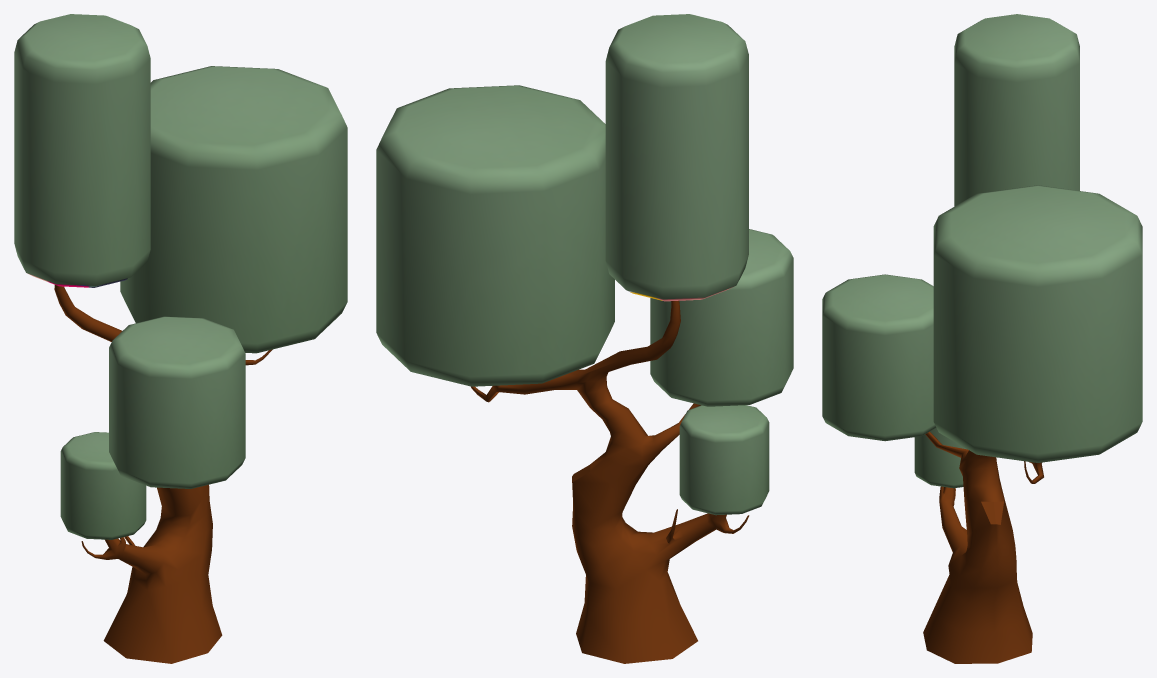
File: SM_Tree_16.fbx
The picture shows the model from 3 angles, left to right: view 1: azimuth 30°, elevation 25°; view 2: azimuth 150°, elevation 25°; view 3: azimuth 270°, elevation 25°; orthographic projection. The views are drawn at different scales.
Visible parts, largest first — view 1: SM_Tree_16; view 2: SM_Tree_16; view 3: SM_Tree_16.
Boxes of the visible parts, left/top/right/bottom form: SM_Tree_16: left=14, top=14, right=347, bottom=663; SM_Tree_16: left=376, top=14, right=793, bottom=663; SM_Tree_16: left=822, top=14, right=1142, bottom=663.
Bounding box in the file's own units: 770 × 1376 × 693.
